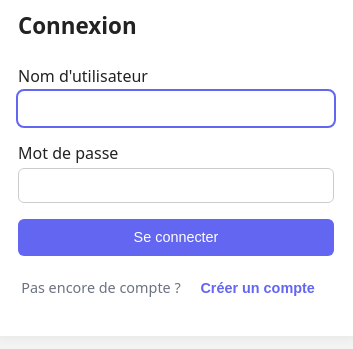
Test case: Authentification › affiche une erreur avec des identifiants invalides
Type "mauvais_user" into the field with id "username". click: x=176, y=109
box: left=18, top=91, right=334, bottom=126
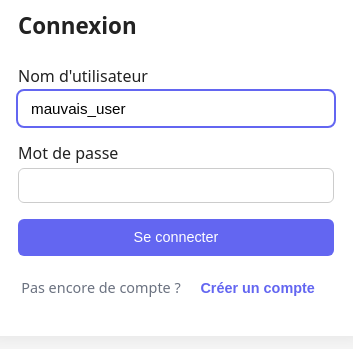
Type "mauvais_mdp" into the password field labelled "Mot de passe". click: x=176, y=186
box: left=18, top=168, right=334, bottom=203
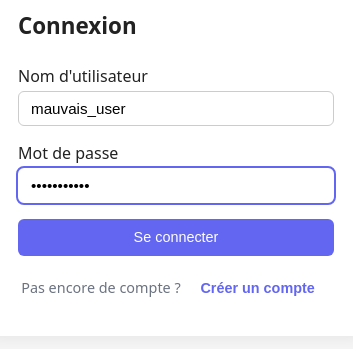
Click the submit button. click: x=176, y=238
box: left=18, top=219, right=334, bottom=256
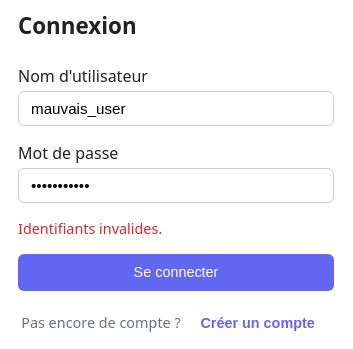
Check: the message "Identifiants invalides." is shown, box left=18, top=219, right=162, bottom=238
